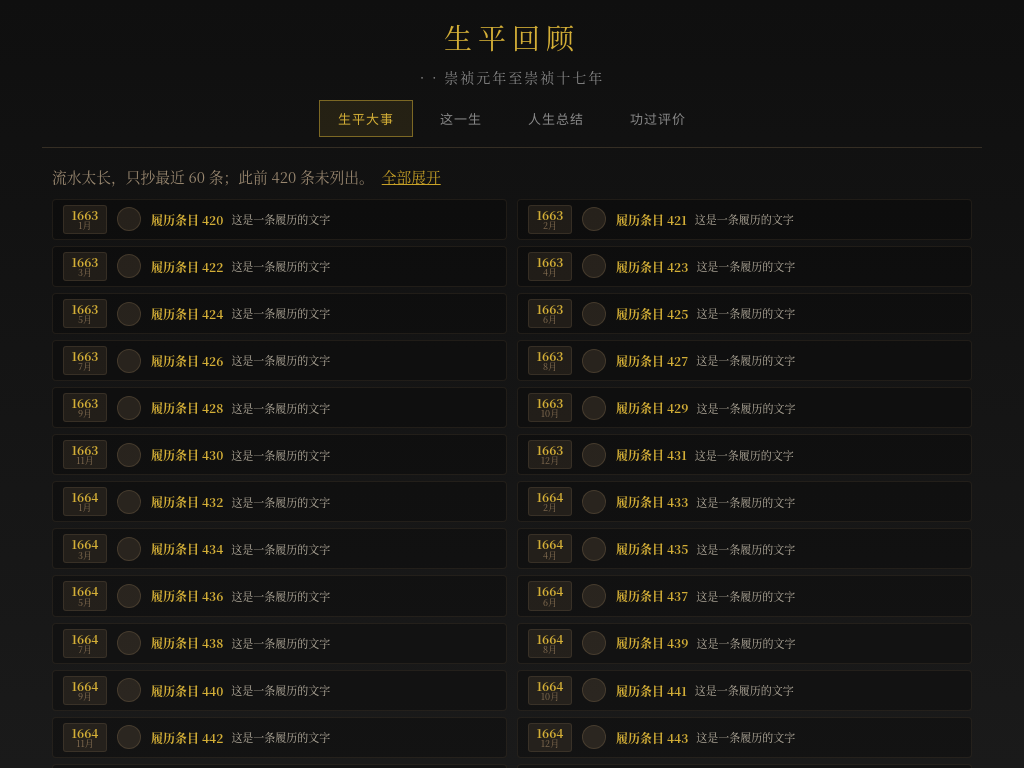
生平回顾 · 时间线的渲染上限（第三十四轮） › 折叠掉的记录点一下就全出来 —— 收起来的是玩家的一生，不是可以丢的数据
The width and height of the screenshot is (1024, 768).
Click the button "全部展开".
click(411, 177)  # box [380, 165, 443, 189]
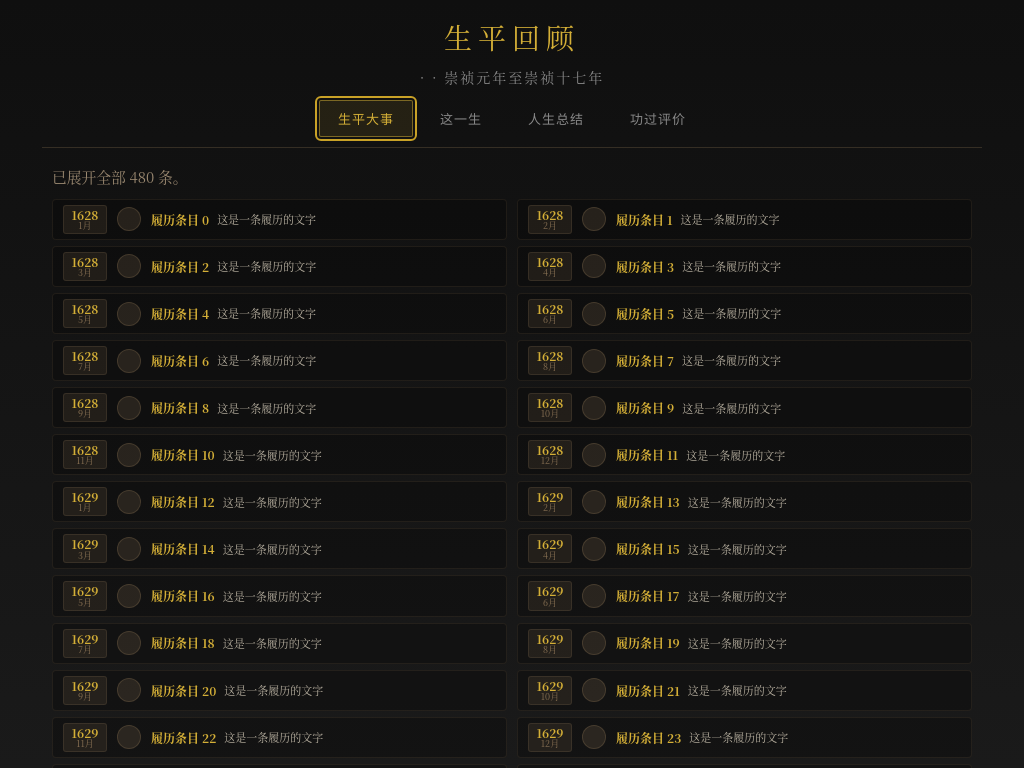
Now the text "已展开全部 480 条。" is shown, box [52, 166, 187, 187]
Now the button "全部展开" is gone
